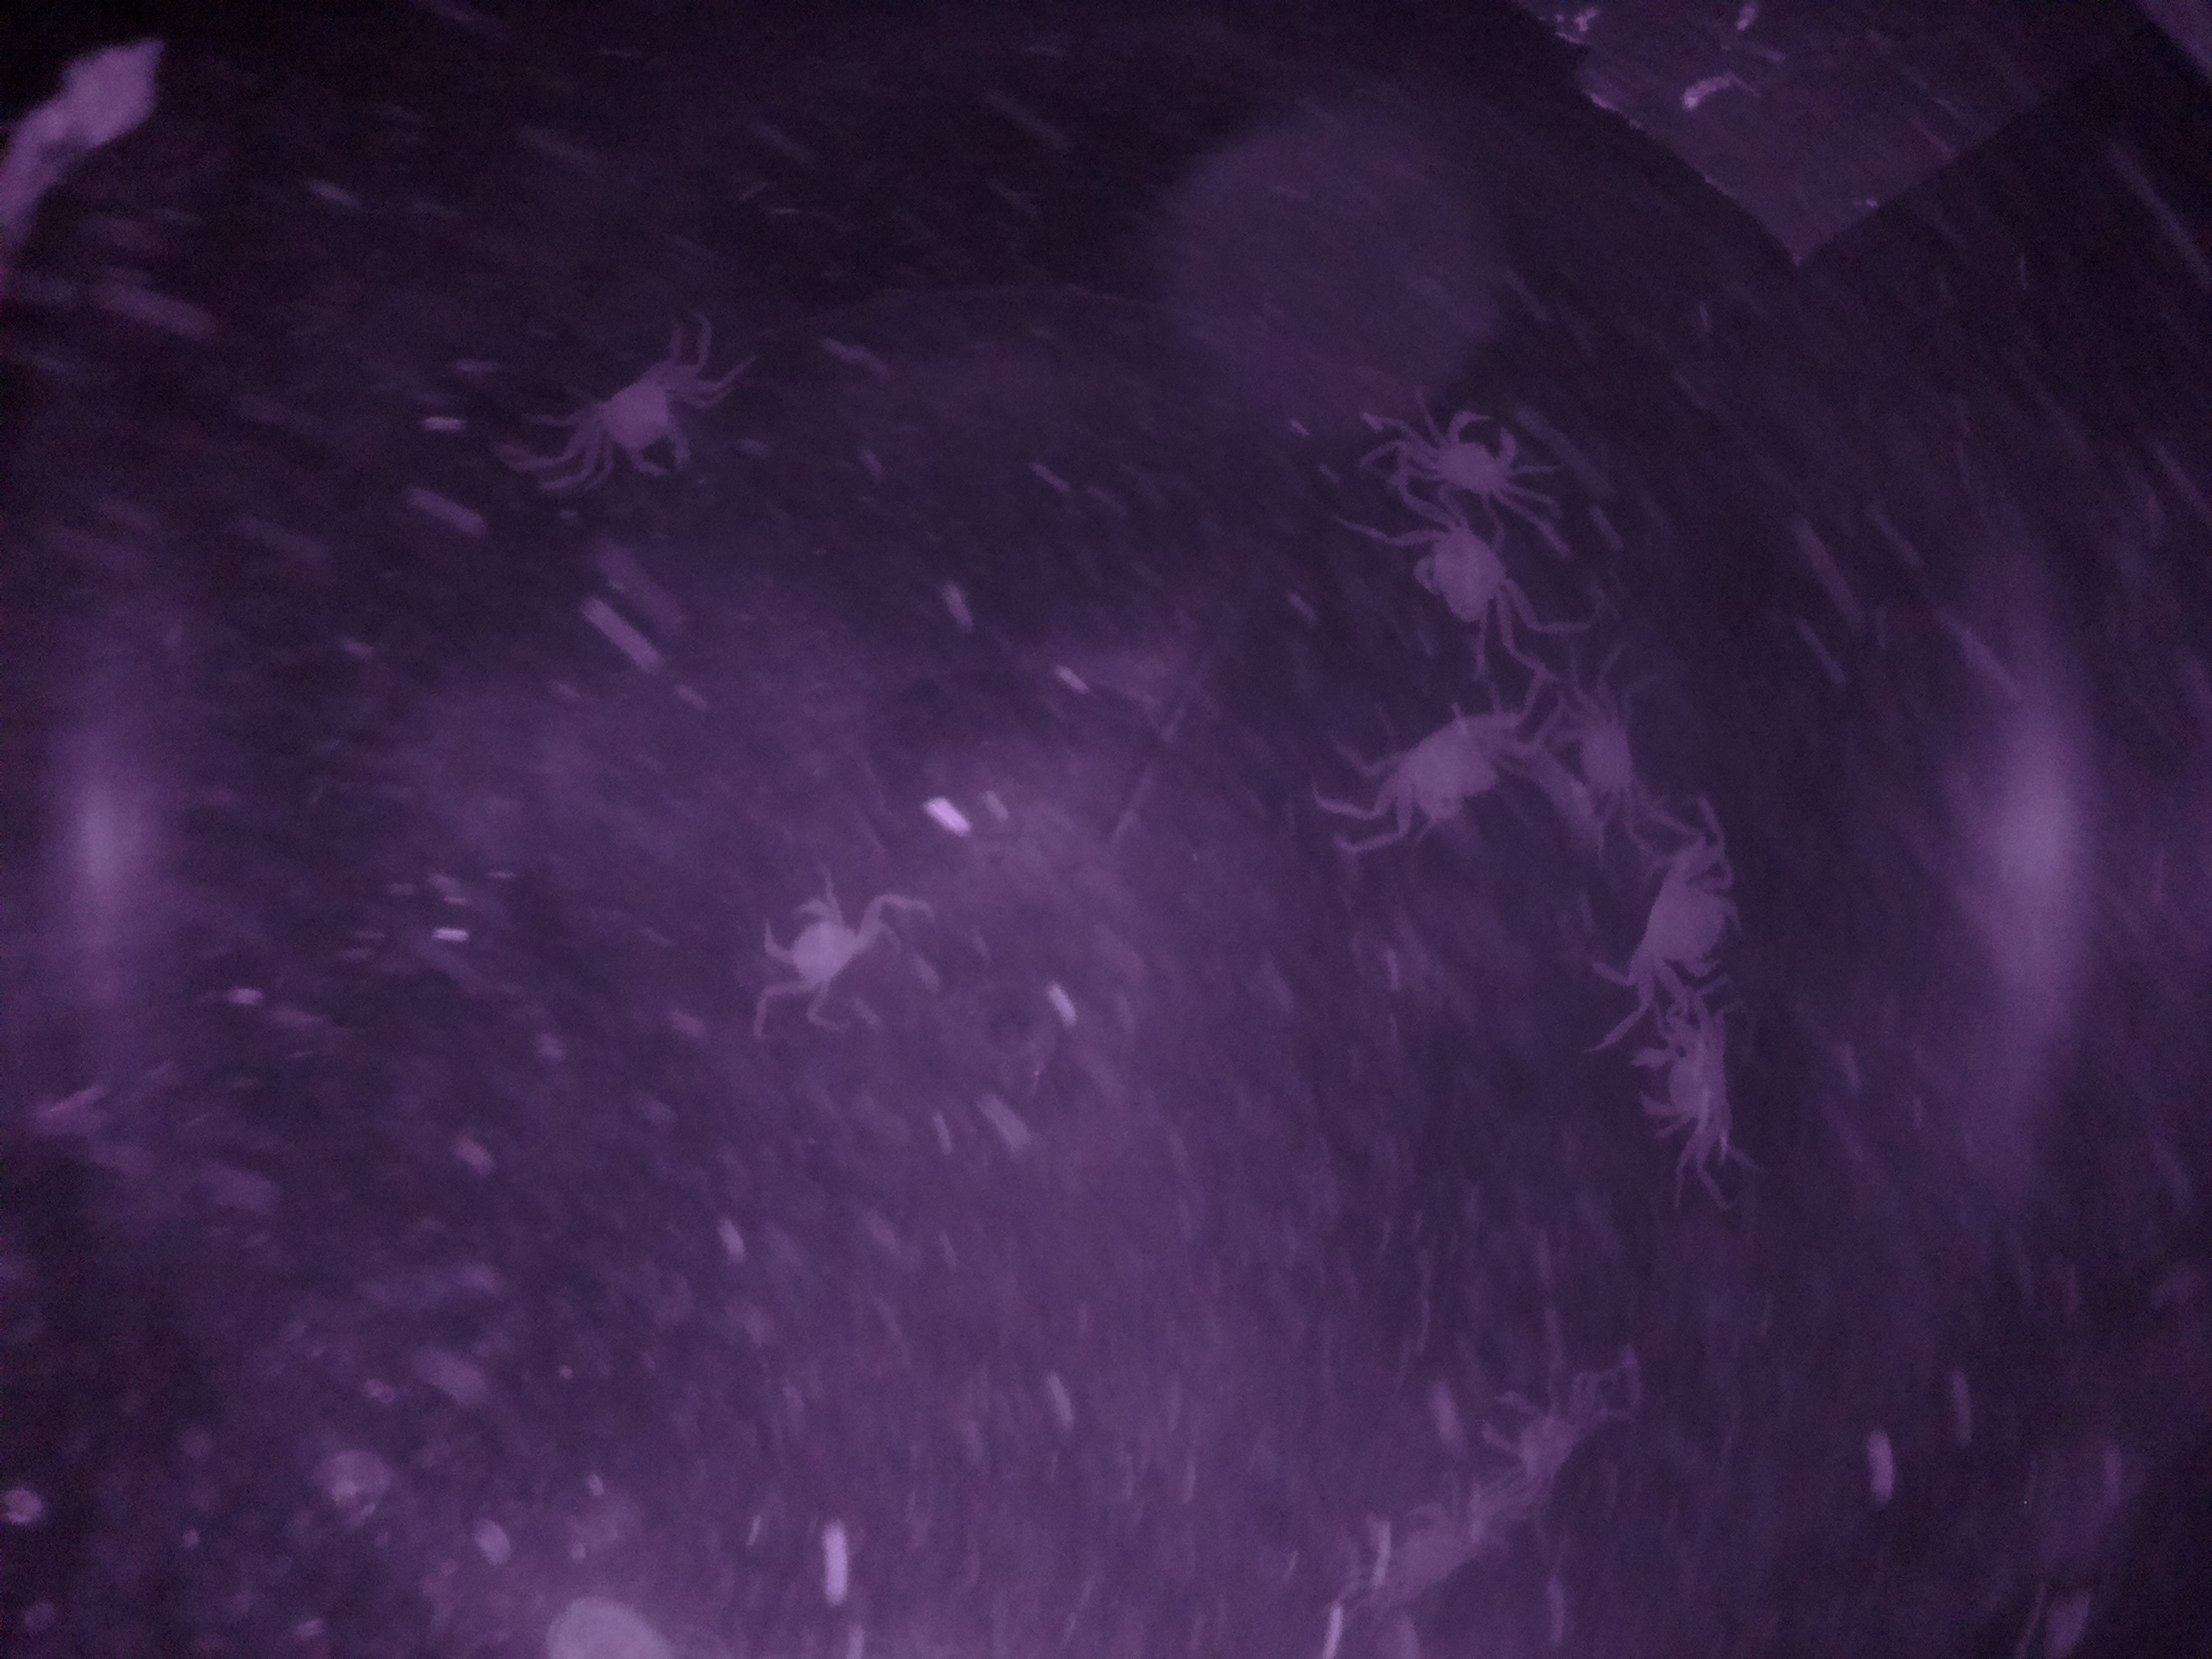Crab: (1599, 838, 1763, 1009), (1620, 1012, 1782, 1171), (563, 347, 711, 495), (1402, 385, 1545, 526)
